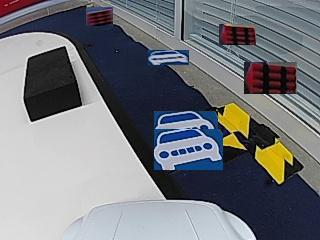block: (24, 46, 82, 121)
